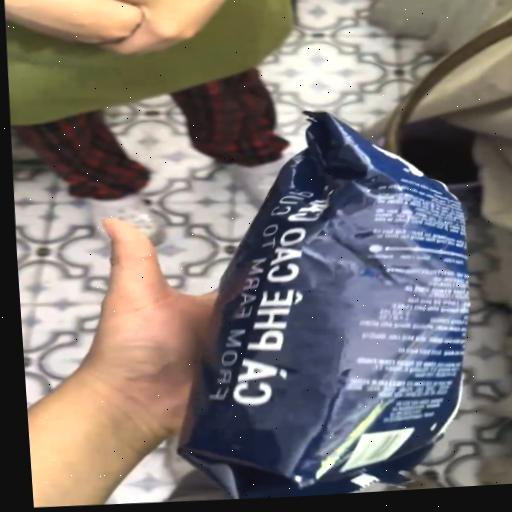cafe_hat: (180, 112, 470, 499)
